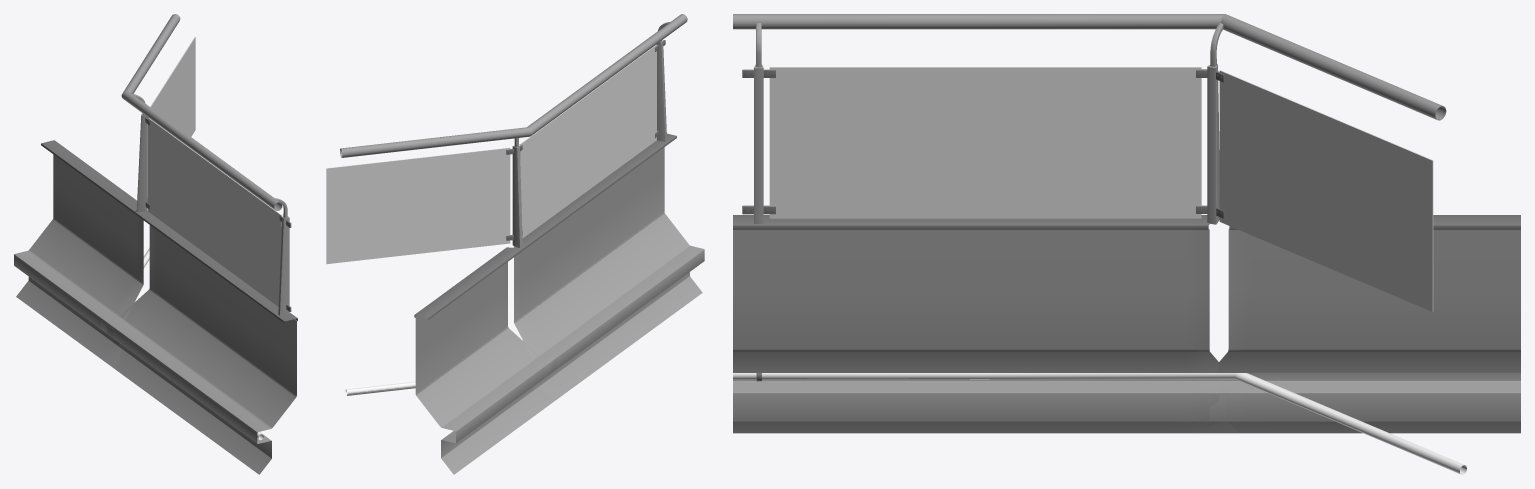
Rendered from SM_BalconyLeftBottom.fbx.
3 renders of one model, left to right at view 1: azimuth 30°, elevation 25°; view 2: azimuth 150°, elevation 25°; view 3: azimuth 270°, elevation 25°, orthographic. The views are drawn at different scales.
Visible parts, largest first — view 1: Balcony_LeftBottom (×2), Glass_LeftBottom, Railing_LeftBottom, RailingSupport_LeftBottom; view 2: Balcony_LeftBottom (×2), Glass_LeftBottom, Railing_LeftBottom, RailingSupport_LeftBottom, EnergyTube_LeftBottom; view 3: Balcony_LeftBottom (×2), Glass_LeftBottom, Railing_LeftBottom, EnergyTube_LeftBottom, RailingSupport_LeftBottom.
Boxes of the visible parts, bbox=[...] form: Balcony_LeftBottom (×2): bbox=[14, 140, 297, 474]; Glass_LeftBottom: bbox=[147, 37, 282, 306]; Railing_LeftBottom: bbox=[121, 14, 282, 210]; RailingSupport_LeftBottom: bbox=[132, 93, 291, 315]; Balcony_LeftBottom (×2): bbox=[414, 133, 704, 474]; Glass_LeftBottom: bbox=[326, 44, 656, 264]; Railing_LeftBottom: bbox=[340, 14, 687, 157]; RailingSupport_LeftBottom: bbox=[506, 22, 669, 247]; EnergyTube_LeftBottom: bbox=[345, 381, 415, 395]; Balcony_LeftBottom (×2): bbox=[733, 215, 1520, 433]; Glass_LeftBottom: bbox=[769, 67, 1433, 311]; Railing_LeftBottom: bbox=[733, 14, 1446, 120]; EnergyTube_LeftBottom: bbox=[733, 373, 1466, 474]; RailingSupport_LeftBottom: bbox=[742, 23, 1224, 224].
Size of the model in its own units: 178 by 295 by 486.
